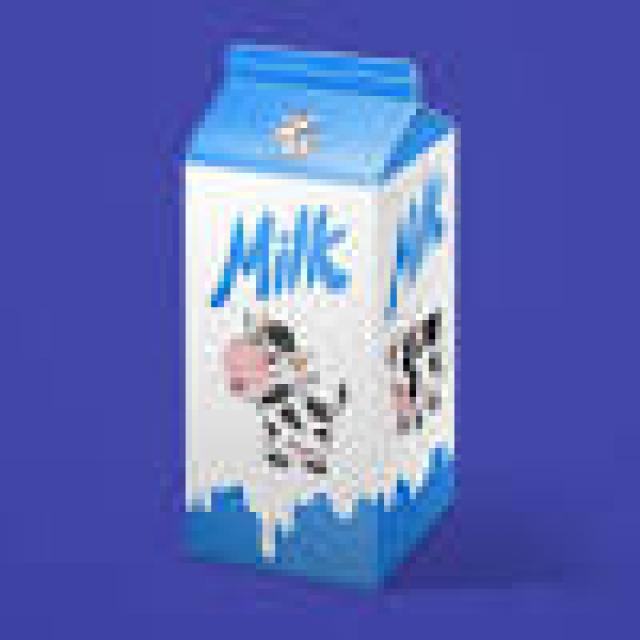non_white_jug: (202, 39, 426, 582)
